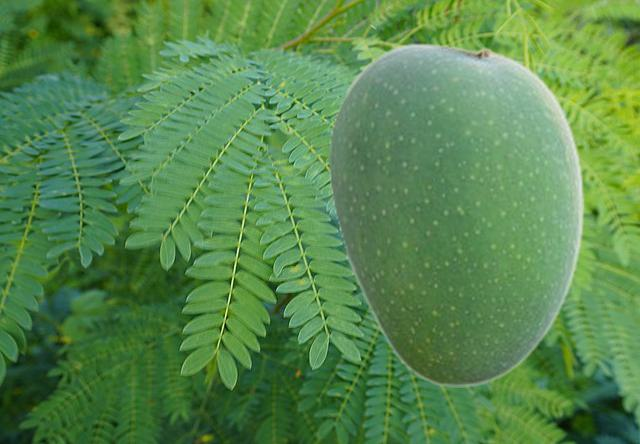green_mango: (328, 42, 584, 386)
